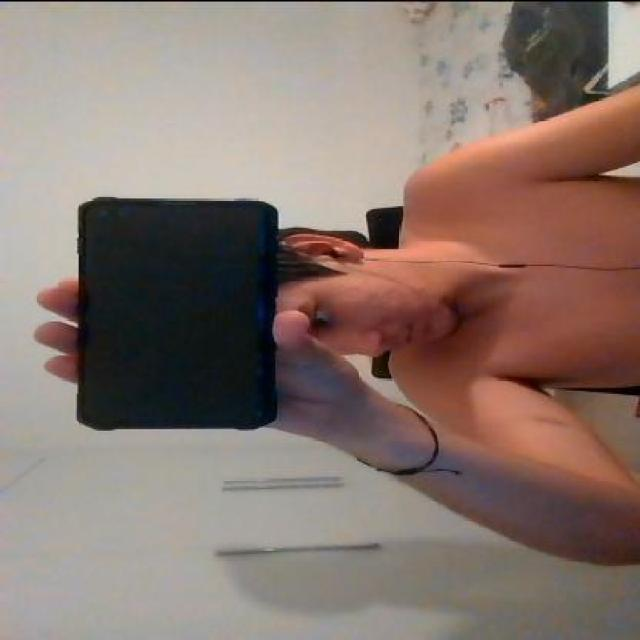mobile: (74, 195, 283, 432)
